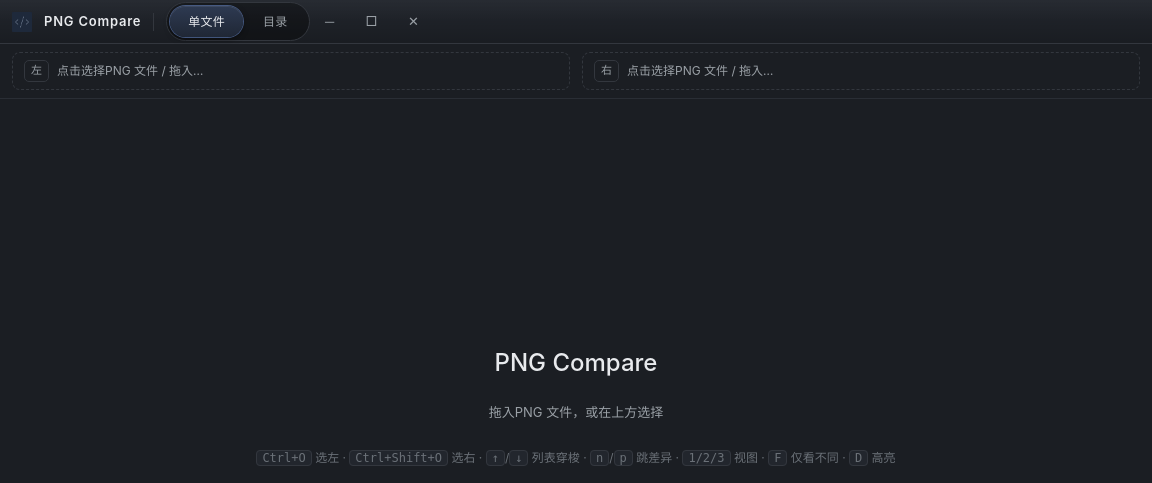
Scenario: App (three-column shell) › selection bar: pick a file via 浏览…, see solo view, then ✕ clears back to welcome
// 打开左槽下拉 → 浏览…
Click the 1st button with class "selbar__slot-main".
click(130, 71)  # box [57, 61, 558, 81]
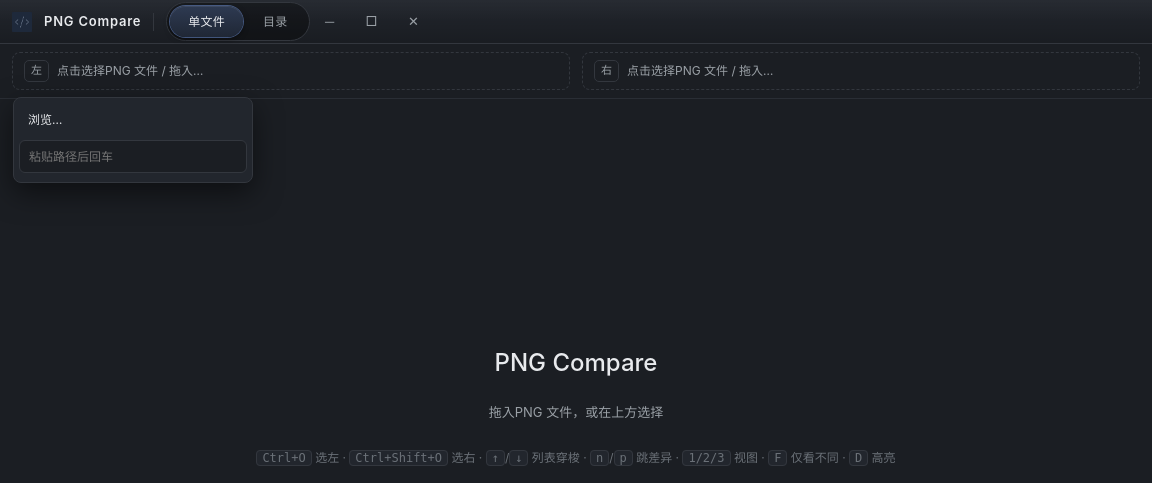
Click the button "浏览…".
click(133, 120)  # box [19, 103, 247, 136]
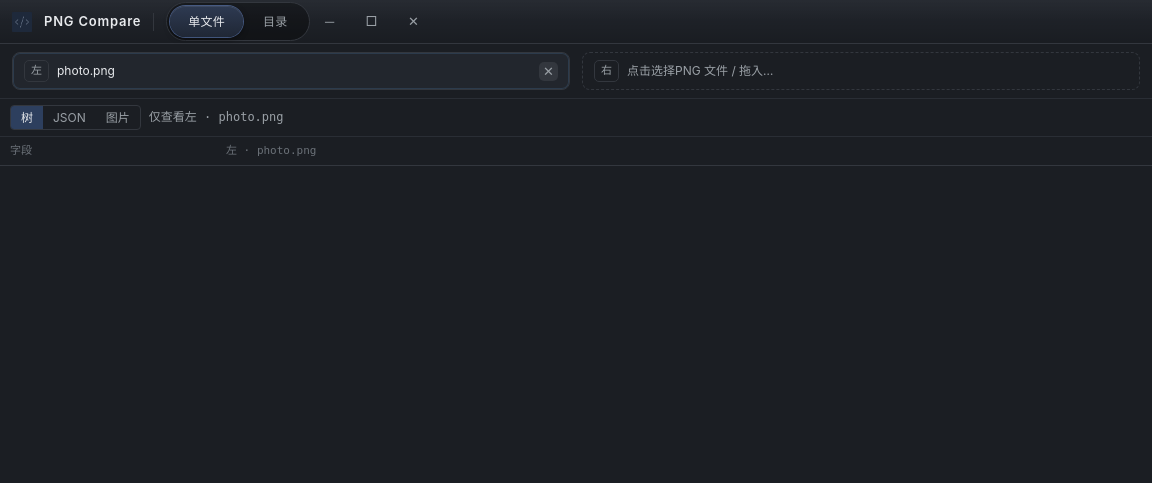
Check: the element with class "detail-head" is shown, box [0, 99, 1151, 137]
// ✕ 清除左侧 → 回欢迎页
Click the button named "清除左侧".
click(548, 71)  # box [539, 62, 558, 80]
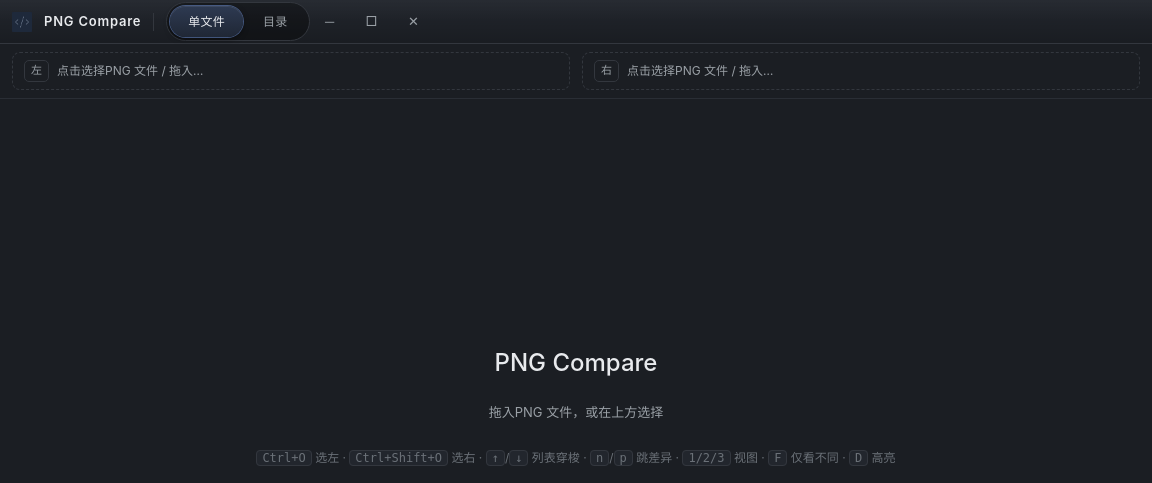
Check: the element with class "detail-head" is gone
